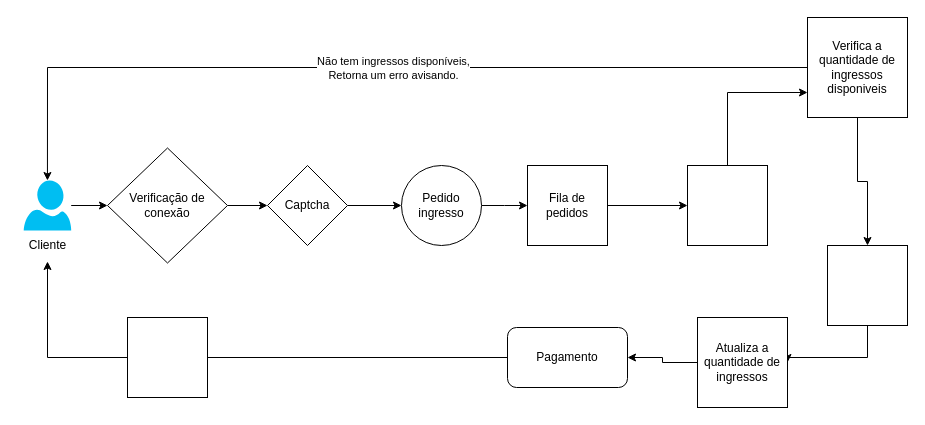
The diagram is 925 pixels wide and 425 high, and some of its shapes have lost their labels. Each missing label, with the centre of its shape:
ingresso reservado: (x=167, y=357)
Reserva de ingressos: (x=727, y=205)
Reserva o ingresso: (x=867, y=285)
